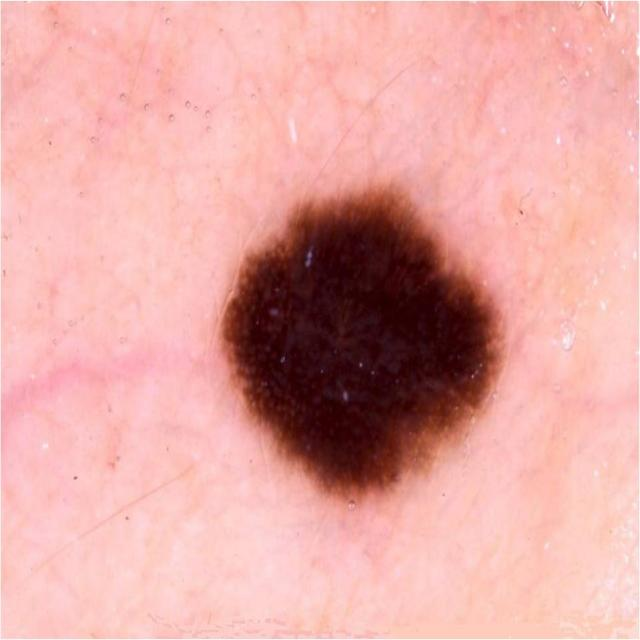Benign: (213, 179, 510, 517)
